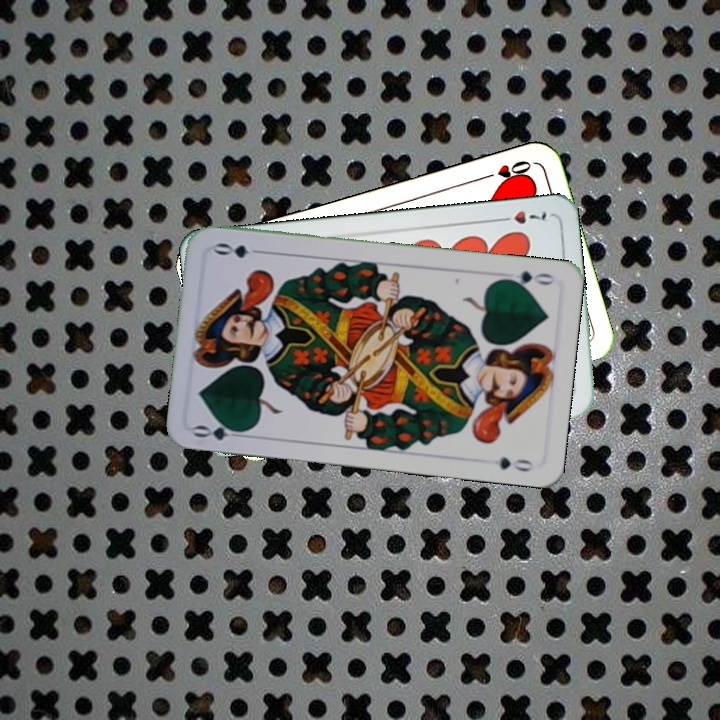GO: (190, 417, 250, 443), (498, 266, 557, 291)
H7: (493, 206, 550, 227)
HO: (477, 156, 534, 185)
